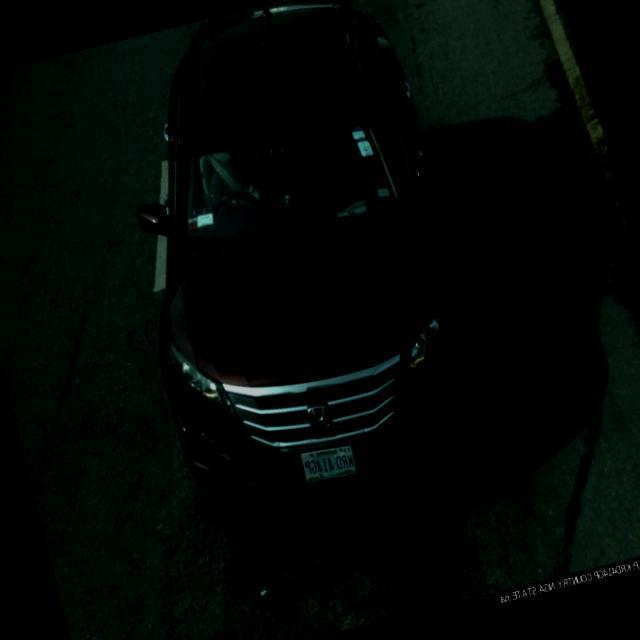windshield: (176, 116, 400, 240)
